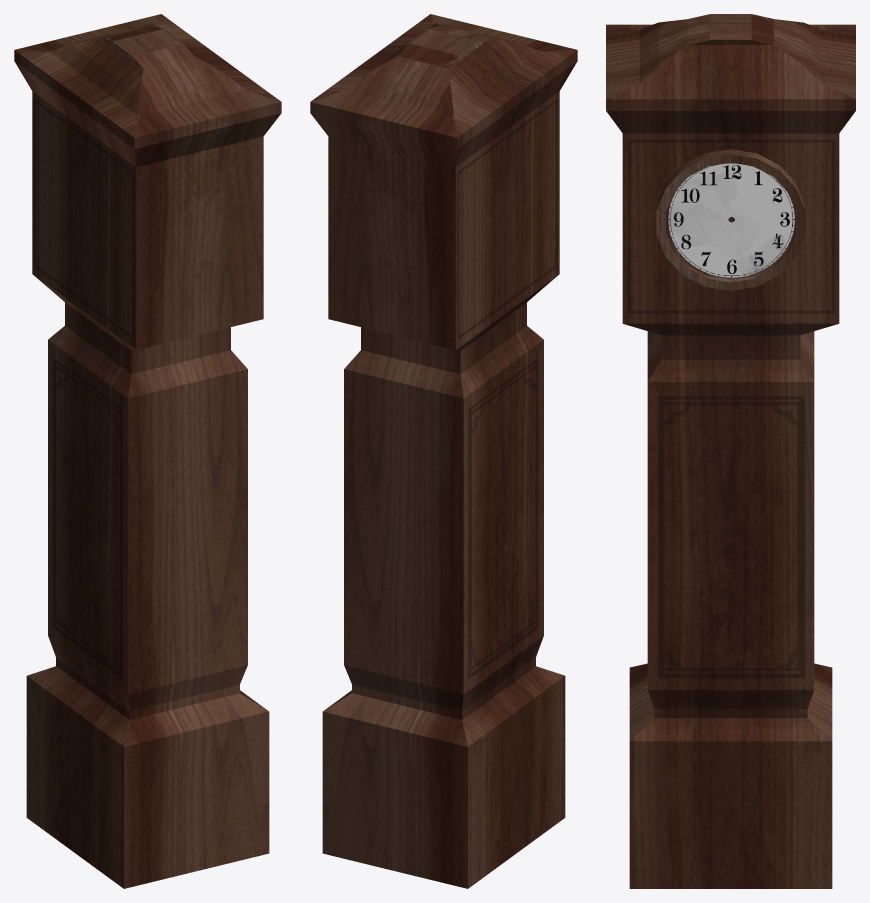
Rendered from ptn_de_clock.fbx.
3 views of the same model, side by side, from view 1: azimuth 30°, elevation 25°; view 2: azimuth 150°, elevation 25°; view 3: azimuth 270°, elevation 25° (orthographic). The views are drawn at different scales.
Visible parts, largest first — view 1: Cylinder001; view 2: Cylinder001; view 3: Cylinder001.
Part boxes in pixels (x1=…): Cylinder001: x1=14, y1=14, x2=281, y2=888; Cylinder001: x1=310, y1=14, x2=577, y2=888; Cylinder001: x1=606, y1=14, x2=855, y2=888.
Size of the model in its own units: 9.29 by 47.75 by 13.11.
